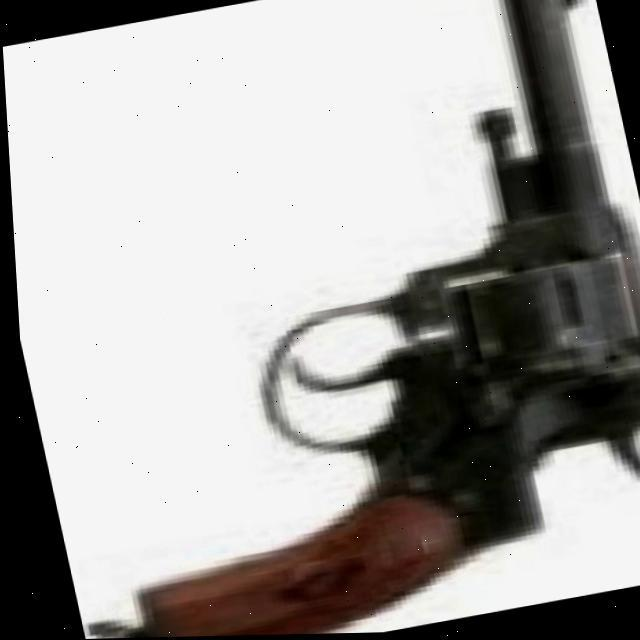gun: (29, 0, 640, 639)
